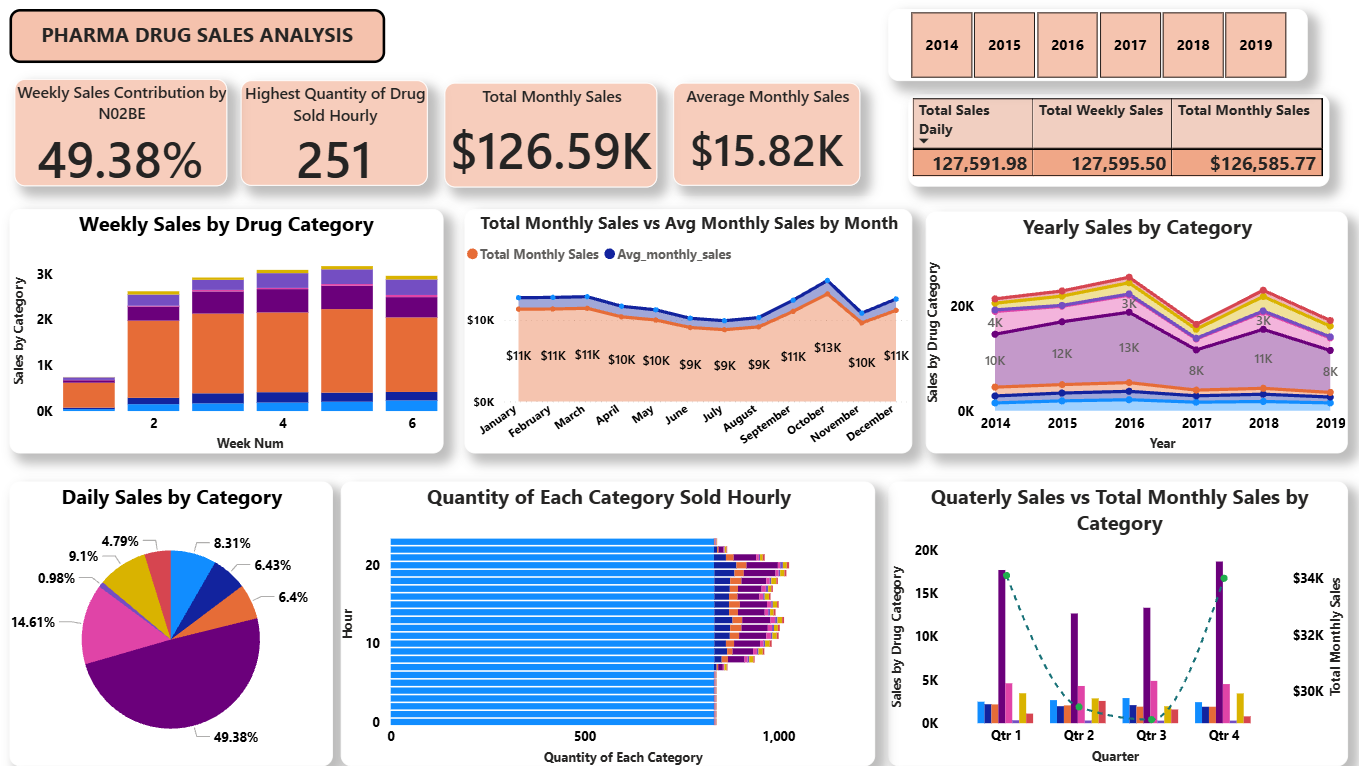

The page's visual inventory and layout, read from the dashboard file:
{"tool":"powerbi","page":{"name":"Page 1","canvas":[1280,720],"ordinal":0},"visuals":[{"type":"textbox","box":[21.4,14.3,350,50],"z":0},{"type":"columnChart","title":"Weekly Sales by Drug Category","fields":{"Category":["Sales Weekly.Week Num"],"Y":["Sum(Sales Weekly.M01AE)","Sum(Sales Weekly.N02BA)","Sum(Sales Weekly.N02BE)","Sum(Sales Weekly.N05B)","Sum(Sales Weekly.N05C)","Sum(Sales Weekly.R03)","Sum(Sales Weekly.R06)"]},"box":[21.5,200,405.1,227.8],"z":1000},{"type":"stackedAreaChart","title":"Total Monthly Sales vs Avg Monthly Sales by Month","fields":{"Y":["Sales Monthly.Total Monthly Sales","Sales Monthly.Avg_monthly_sales"],"Category":["Sales Monthly.Date.Variation.Date Hierarchy.Month"]},"box":[445.6,200,417.7,227.8],"z":2000},{"type":"pieChart","title":"Daily Sales by Category","fields":{"Y":["Sum(Sales Daily.M01AB)","Sum(Sales Daily.M01AE)","Sum(Sales Daily.N02BA)","Sum(Sales Daily.N02BE)","Sum(Sales Daily.N05B)","Sum(Sales Daily.N05C)","Sum(Sales Daily.R03)","Sum(Sales Daily.R06)"]},"box":[21.5,454.4,301.3,265.8],"z":3000},{"type":"stackedAreaChart","title":"Yearly Sales by Category","fields":{"Category":["Sales Monthly.Date.Variation.Date Hierarchy.Year"],"Y":["Sum(Sales Monthly.M01AB)","Sum(Sales Monthly.M01AE)","Sum(Sales Monthly.N02BA)","Sum(Sales Monthly.N02BE)","Sum(Sales Monthly.N05B)","Sum(Sales Monthly.N05C)","Sum(Sales Monthly.R03)","Sum(Sales Monthly.R06)"]},"box":[876,202.5,393.7,225.3],"z":4000},{"type":"lineClusteredColumnComboChart","title":"Quaterly Sales vs Total Monthly Sales by Category","fields":{"Category":["Sales Monthly.Date.Variation.Date Hierarchy.Quarter"],"Y":["Sum(Sales Monthly.M01AB)","Sum(Sales Monthly.M01AE)","Sum(Sales Monthly.N02BA)","Sum(Sales Monthly.N02BE)","Sum(Sales Monthly.N05B)","Sum(Sales Monthly.N05C)","Sum(Sales Monthly.R03)","Sum(Sales Monthly.R06)"],"Y2":["Sales Monthly.Total Monthly Sales"]},"box":[840.5,454.4,429.1,265.8],"z":5000},{"type":"card","title":"Weekly Sales Contribution by N02BE","fields":{"Values":["Sales Weekly.Weekly Contribution by N02BE"]},"box":[25.3,79.8,198.7,100],"z":8000},{"type":"barChart","title":"Quantity of Each Category Sold Hourly","fields":{"Category":["Sales Hourly.Hour"],"Y":["CountNonNull(Sales Hourly.M01AB)","Count(Sales Hourly.M01AE)","Count(Sales Hourly.N02BA)","Count(Sales Hourly.N02BE)","Count(Sales Hourly.N05B)","Count(Sales Hourly.N05C)","Count(Sales Hourly.R03)","Count(Sales Hourly.R06)"]},"box":[330.4,454.4,498.7,265.8],"z":9000},{"type":"card","title":"Highest Quantity of Drug Sold Hourly","fields":{"Values":["Count(Sales Hourly.N02BE)"]},"box":[236.7,81,174.7,98.7],"z":9001},{"type":"card","title":"Total Monthly Sales","fields":{"Values":["Sales Monthly.Total Monthly Sales"]},"box":[426.6,82.3,198.7,97.5],"z":9002},{"type":"card","title":"Average Monthly Sales","fields":{"Values":["Sales Monthly.Avg_monthly_sales"]},"box":[640.5,82.3,174.7,96.2],"z":9003},{"type":"tableEx","fields":{"Values":["Sales Daily.Total Sales Daily","Sales Weekly.Total Weekly Sales","Sales Monthly.Total Monthly Sales"]},"box":[859.5,93.7,392.4,86.1],"z":9004},{"type":"slicer","fields":{"Values":["Sales Weekly.Date.Variation.Date Hierarchy.Year"]},"box":[840.5,13.9,391.1,67.1],"z":9005}]}

Visuals, with their boxes in screenshot pixels (x1, y1, x2, y2), scaled from the page's 1280x720 canvas onto the 1362x766 screenshot:
textbox: region(23, 15, 395, 68)
"Weekly Sales by Drug Category" columnChart: region(23, 213, 454, 455)
"Total Monthly Sales vs Avg Monthly Sales by Month" stackedAreaChart: region(474, 213, 919, 455)
"Daily Sales by Category" pieChart: region(23, 483, 343, 765)
"Yearly Sales by Category" stackedAreaChart: region(932, 215, 1351, 455)
"Quaterly Sales vs Total Monthly Sales by Category" lineClusteredColumnComboChart: region(894, 483, 1351, 765)
"Weekly Sales Contribution by N02BE" card: region(27, 85, 238, 191)
"Quantity of Each Category Sold Hourly" barChart: region(352, 483, 882, 765)
"Highest Quantity of Drug Sold Hourly" card: region(252, 86, 438, 191)
"Total Monthly Sales" card: region(454, 88, 665, 191)
"Average Monthly Sales" card: region(682, 88, 867, 190)
tableEx - Sales Daily.Total Sales Daily x Sales Weekly.Total Weekly Sales: region(915, 100, 1332, 191)
slicer - Sales Weekly.Date.Variation.Date Hierarchy.Year: region(894, 15, 1310, 86)
